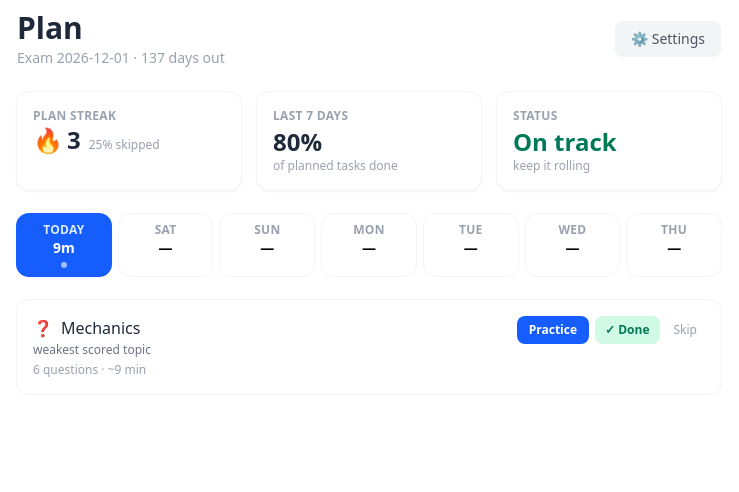
plan dashboard › completing the day surfaces the plan.day celebration from the setTaskStatus ride-back
Click the button "✓ Done" at (627, 330), box [595,316,660,344]
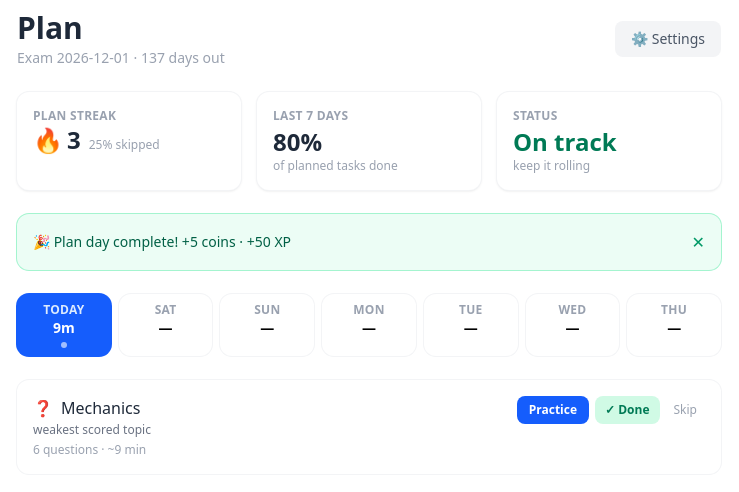
Expected: the text "🎉 Plan day complete! +5 coins · +50 XP" is shown, [33,232,291,252]
